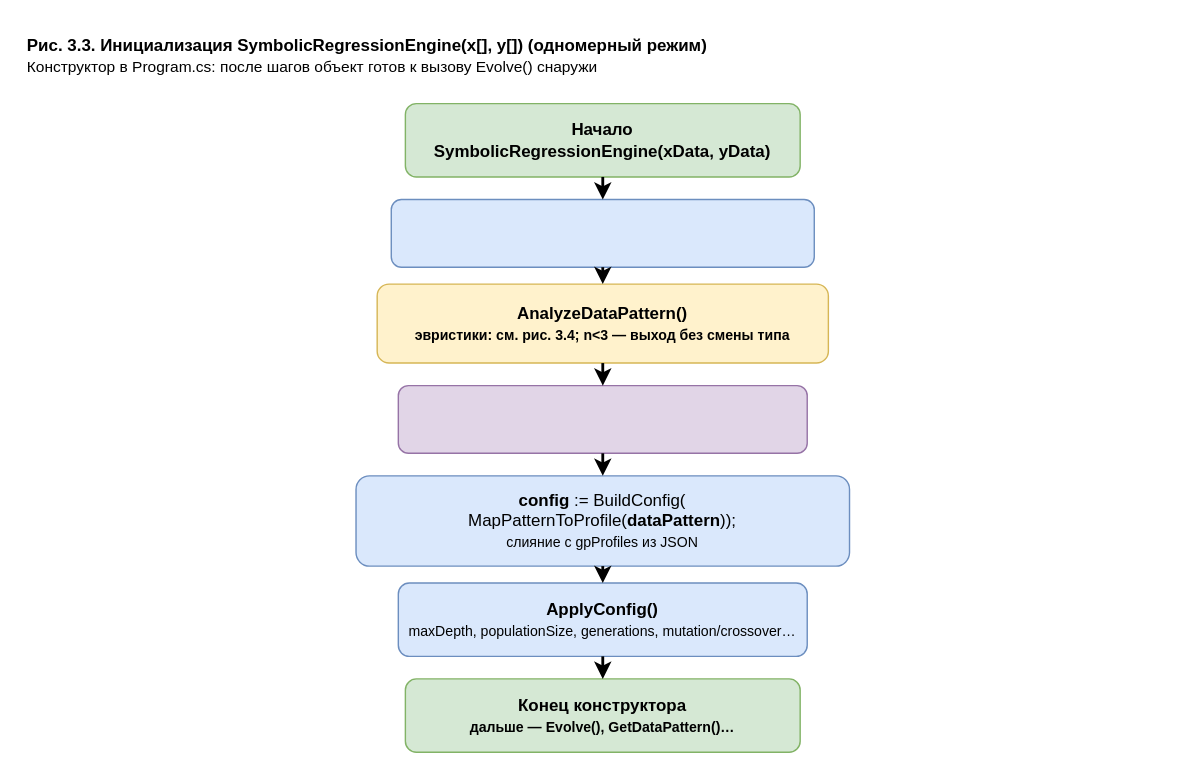
Some shapes in this 1204 by 777 pixel diagram are drawn without their labels. Each missing label, with the box of its shape:
enableHeuristics := false; сохранить массивы xData, yData: (390, 198, 814, 267)
variableCount := 1; superpositionMode := false: (397, 384, 807, 453)
